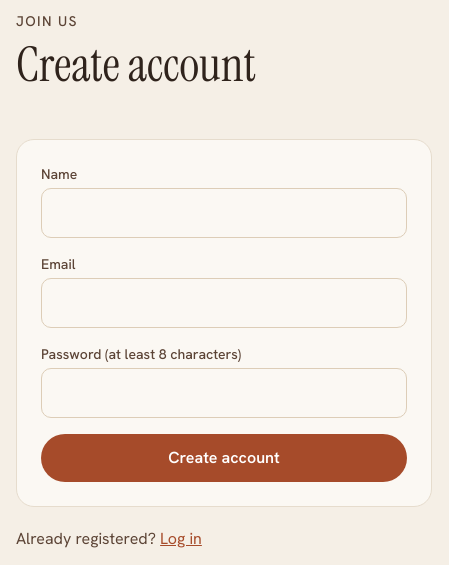
Scenario: registers with name, email and password and asks to confirm the email
Type "Ayesha" into the field labelled "Name". click: (224, 213)
box: [41, 188, 407, 238]
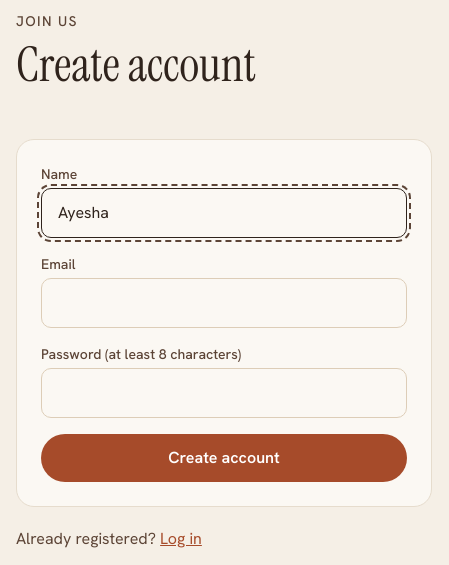
Type "a@example.com" into the field labelled "Email". click: (224, 303)
box: [41, 278, 407, 328]
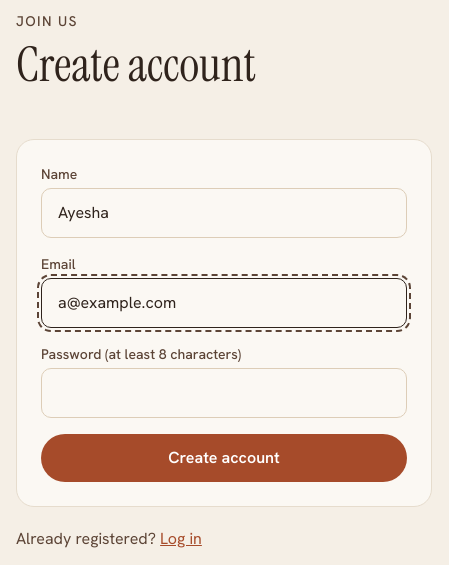
Type "secret123" into the password field labelled "Password (at least 8 characters)". click: (224, 393)
box: [41, 368, 407, 418]
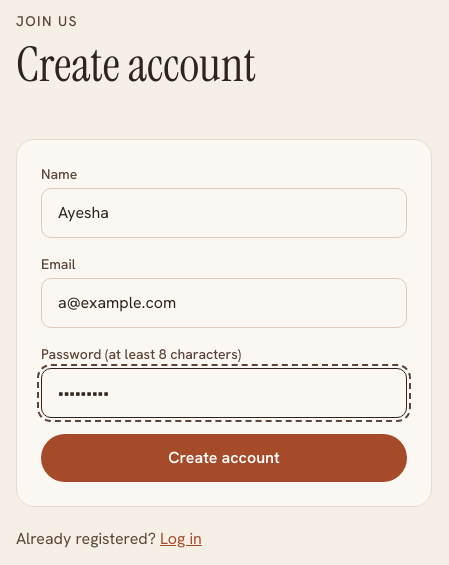
Click the button "Create account". click: (224, 458)
box: [41, 434, 407, 482]
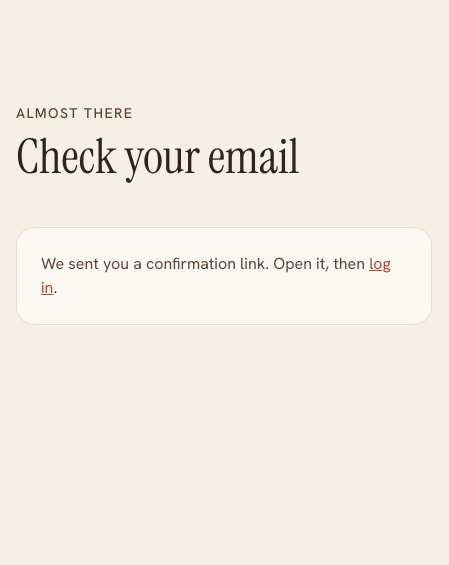
Expected: the heading "Check your email" is shown, [16, 125, 299, 188]
